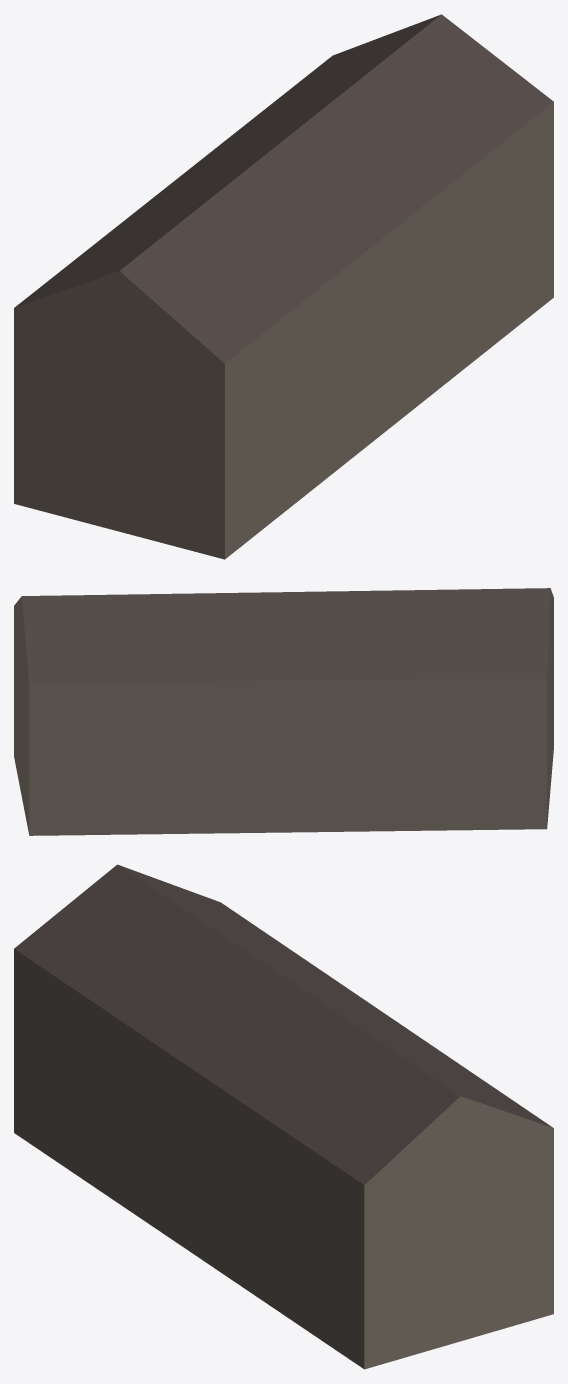
The picture shows the model from 3 angles, top to bottom: view 1: azimuth 30°, elevation 25°; view 2: azimuth 150°, elevation 25°; view 3: azimuth 270°, elevation 25°; orthographic projection. The views are drawn at different scales.
Visible parts, largest first — view 1: HP-w305412558; view 2: HP-w305412558; view 3: HP-w305412558.
Boxes of the visible parts, bbox=[...] form: HP-w305412558: bbox=[14, 14, 553, 559]; HP-w305412558: bbox=[14, 588, 553, 835]; HP-w305412558: bbox=[14, 864, 553, 1369].
Bounding box in the file's own units: 29.65 × 11.99 × 23.92.
